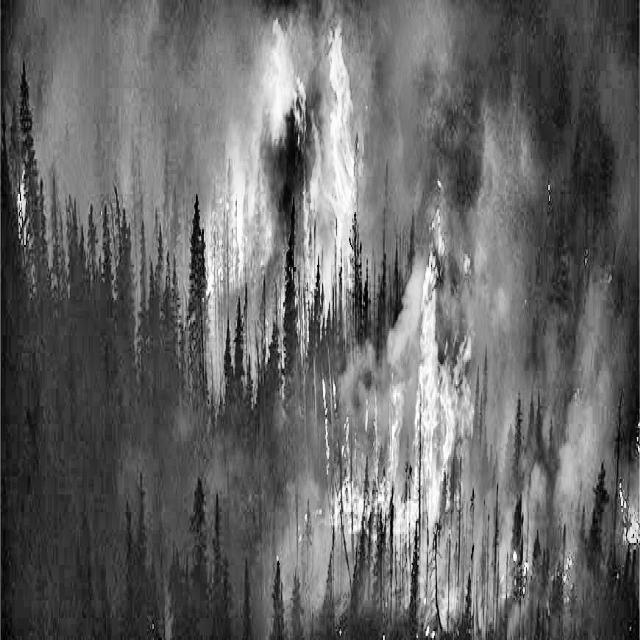fire: (253, 66, 379, 262), (402, 278, 482, 568), (310, 412, 434, 590), (582, 466, 640, 606), (540, 517, 584, 640), (455, 200, 477, 324), (500, 532, 530, 617), (427, 212, 451, 307), (540, 153, 559, 235)
